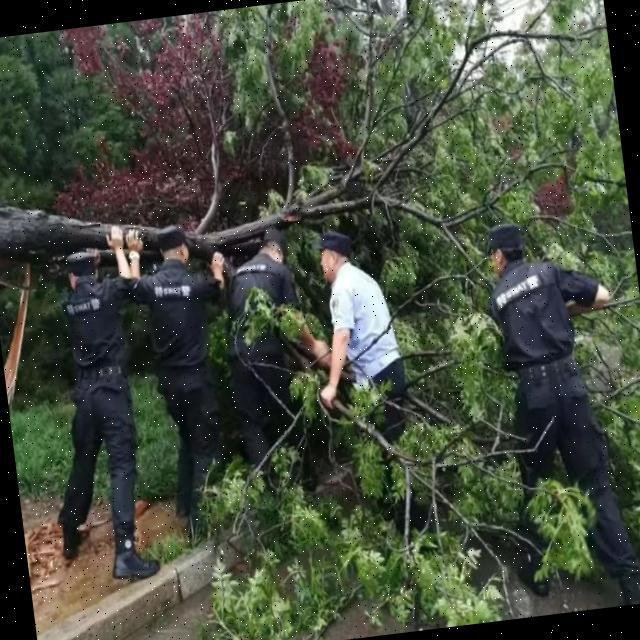fallen_object: (0, 0, 631, 307)
